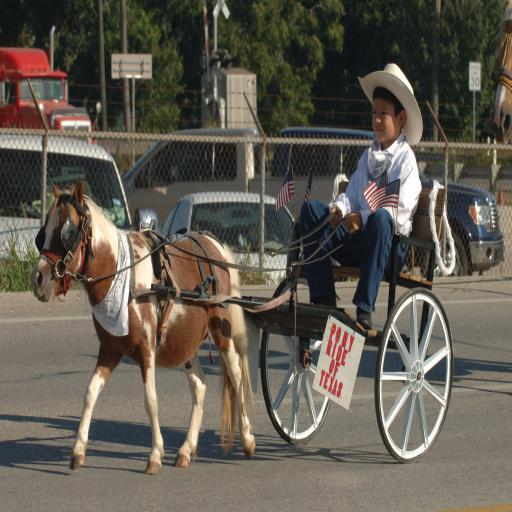horse: (30, 176, 256, 478)
